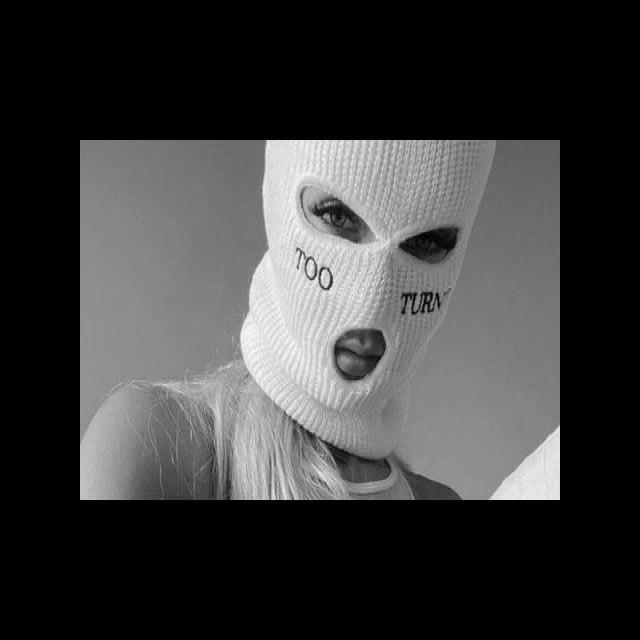6_pasamontana: (240, 142, 498, 462)
